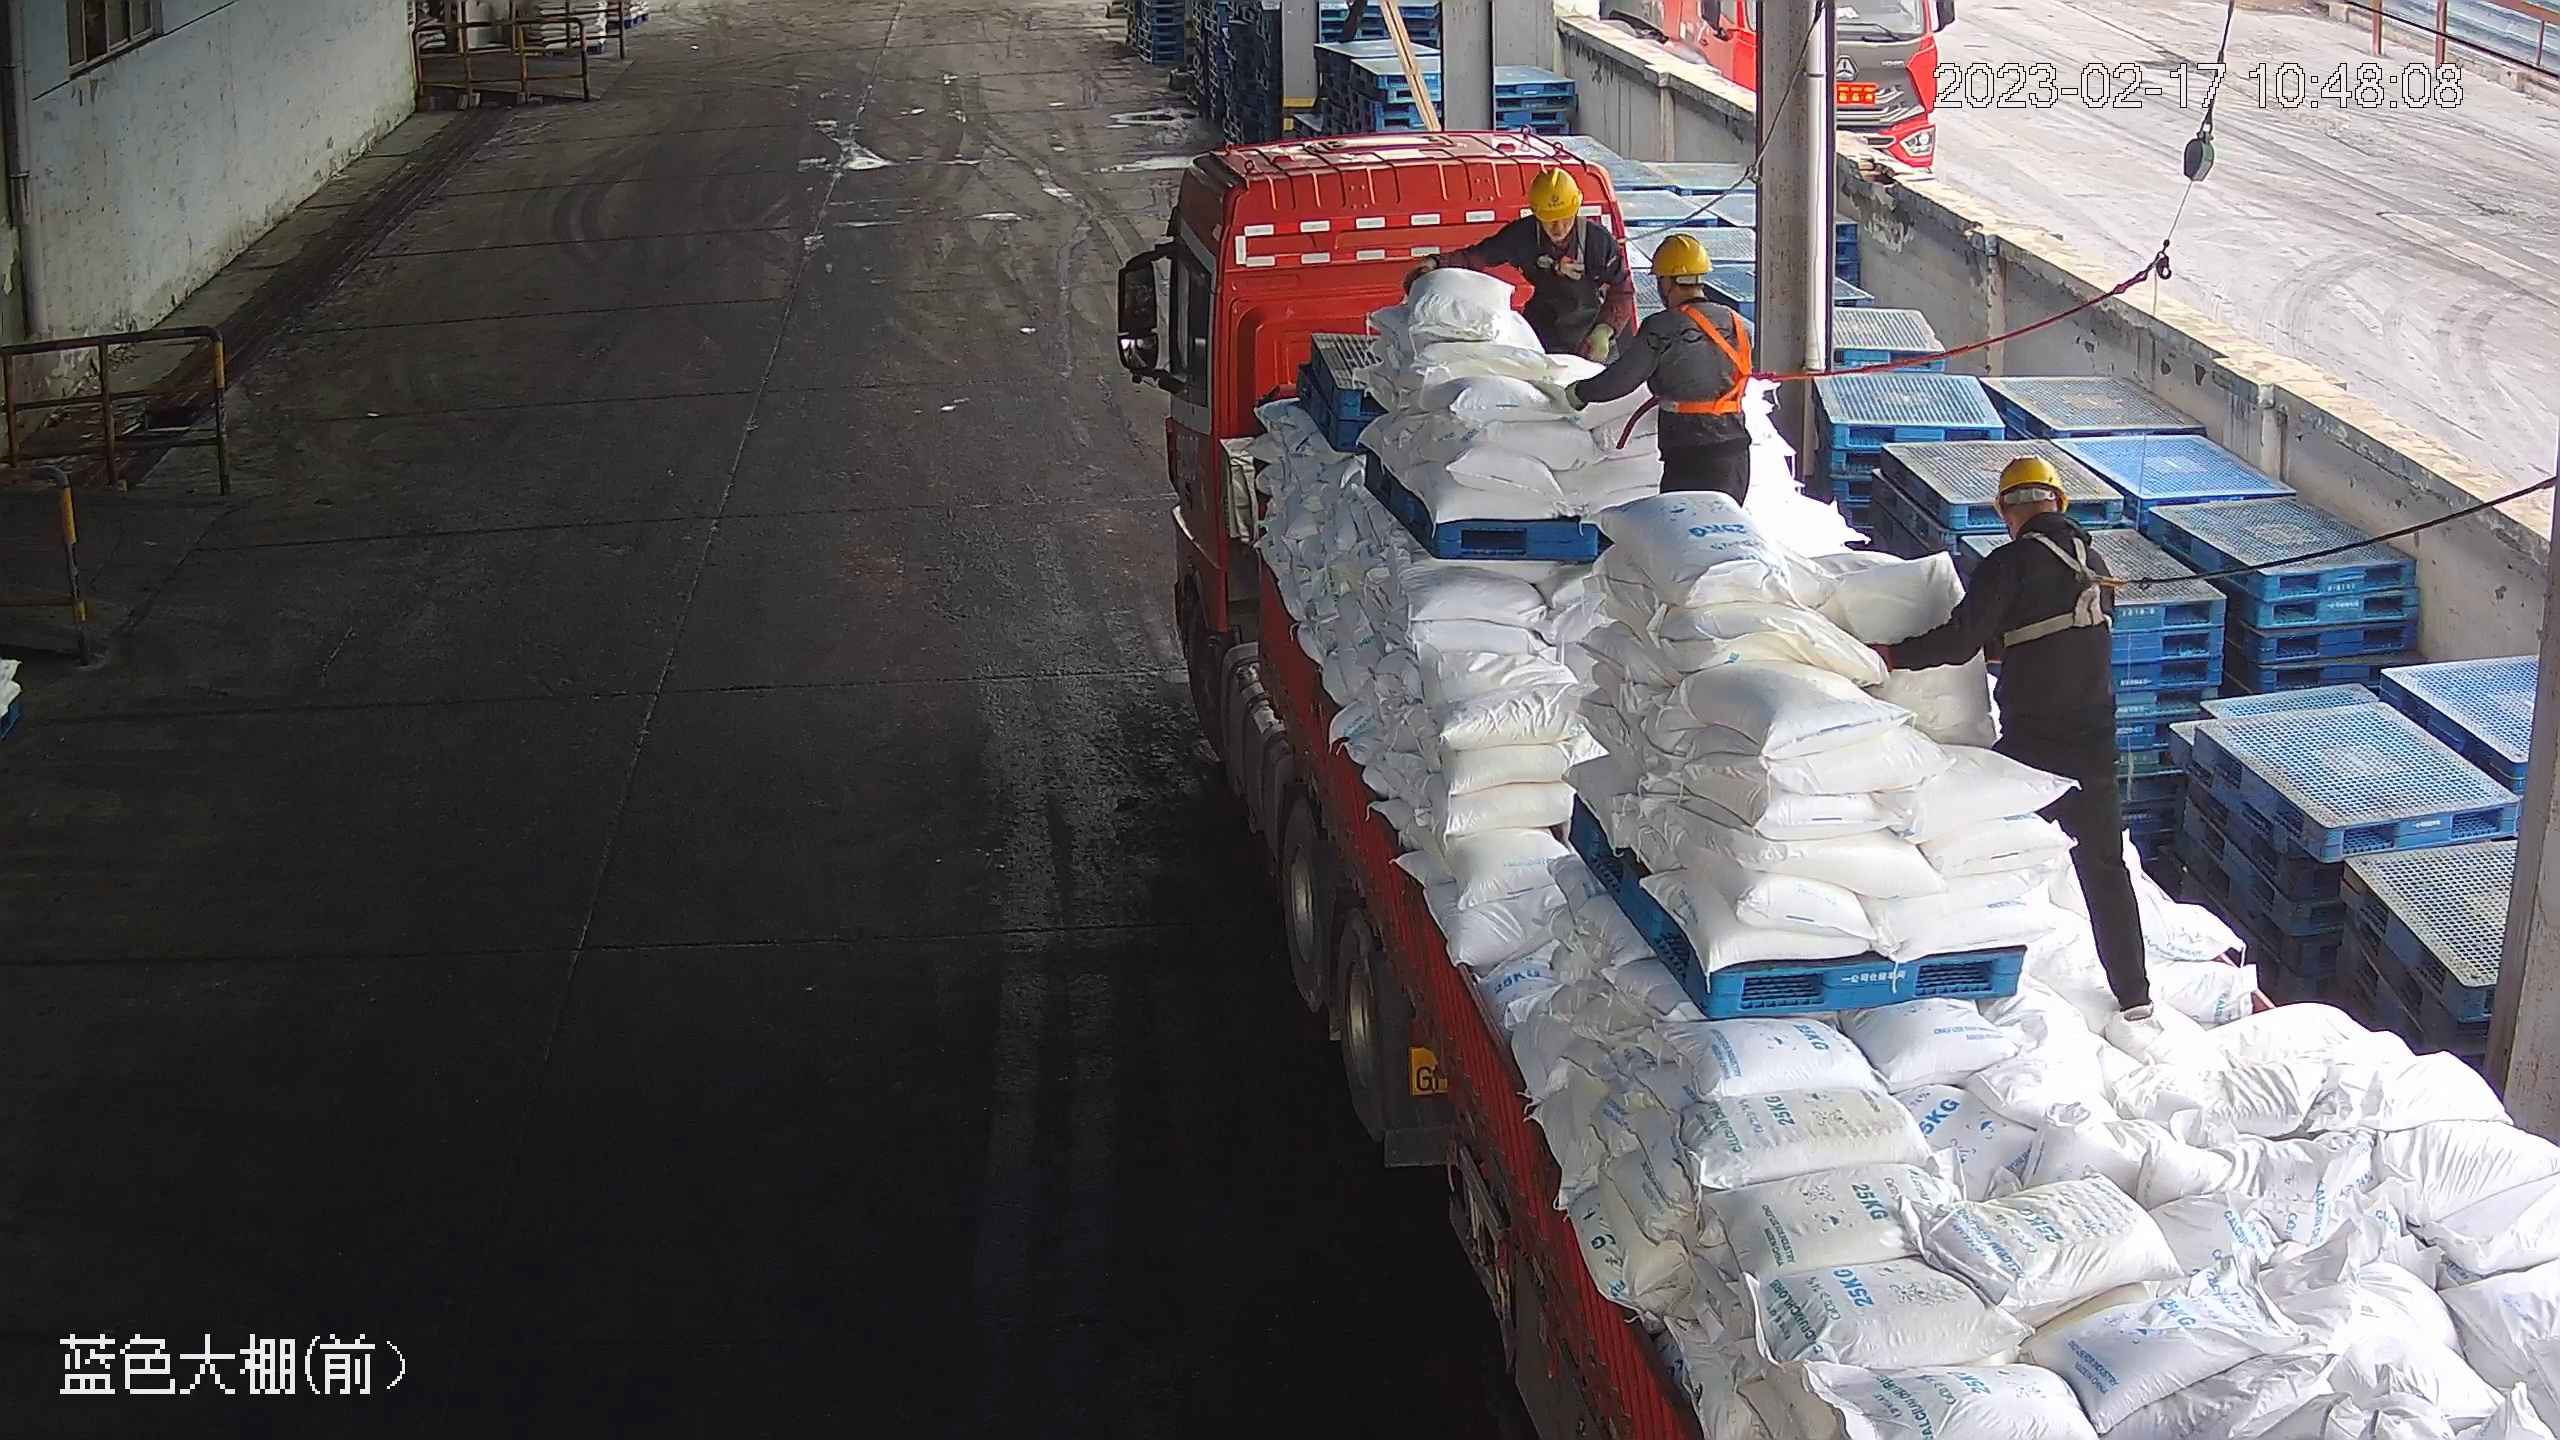belt: (1997, 522, 2127, 645), (1645, 296, 1772, 419), (1523, 211, 1603, 280)
head: (1969, 453, 2117, 590), (1624, 230, 1757, 357), (1500, 165, 1621, 260)
helmet: (1991, 453, 2067, 515), (1645, 230, 1714, 277), (1527, 167, 1583, 220)
people: (1869, 449, 2161, 1014), (1566, 233, 1761, 513), (1432, 165, 1628, 366)
truck: (1121, 125, 2560, 1440)
